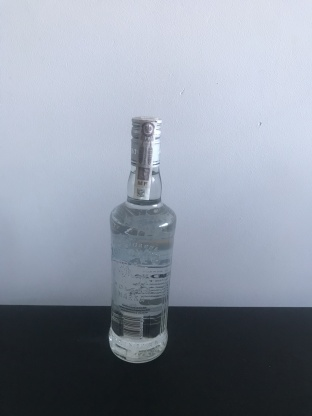nakretka: (128, 112, 164, 168)
